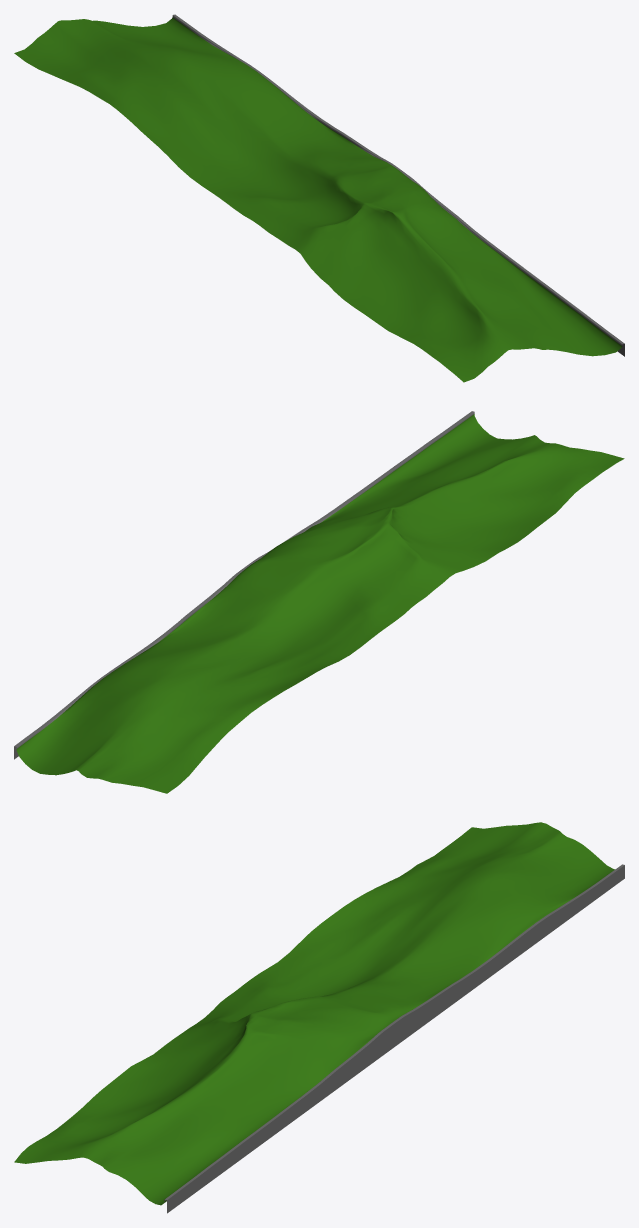
The model's file is mountain.fbx.
3 renders of one model, top to bottom at view 1: azimuth 30°, elevation 25°; view 2: azimuth 150°, elevation 25°; view 3: azimuth 330°, elevation 25°, orthographic.
Parts seen in each view (by area): view 1: Plane; view 2: Plane; view 3: Plane.
Boxes of the visible parts, x1,y1,x2,y2 form: Plane: (14, 14, 624, 382); Plane: (14, 411, 624, 793); Plane: (14, 822, 624, 1213).
Bounding box in the file's own units: 30797 × 152719 × 9207.
